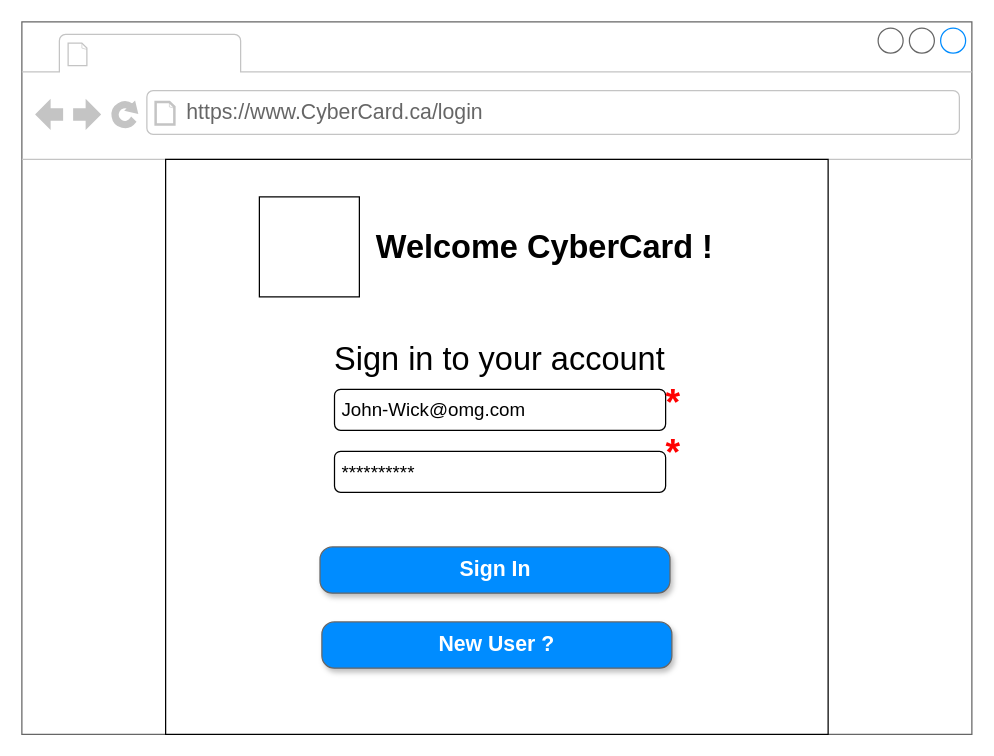
Image size: 994x756. Some labels were removed from this diagram. Each missing label, with the centre of its shape:
"CyberCard" belongs at (165,52).
"E-mail:" belongs at (296,409).
"logo" belongs at (308,246).
"Password:" belongs at (280,471).
